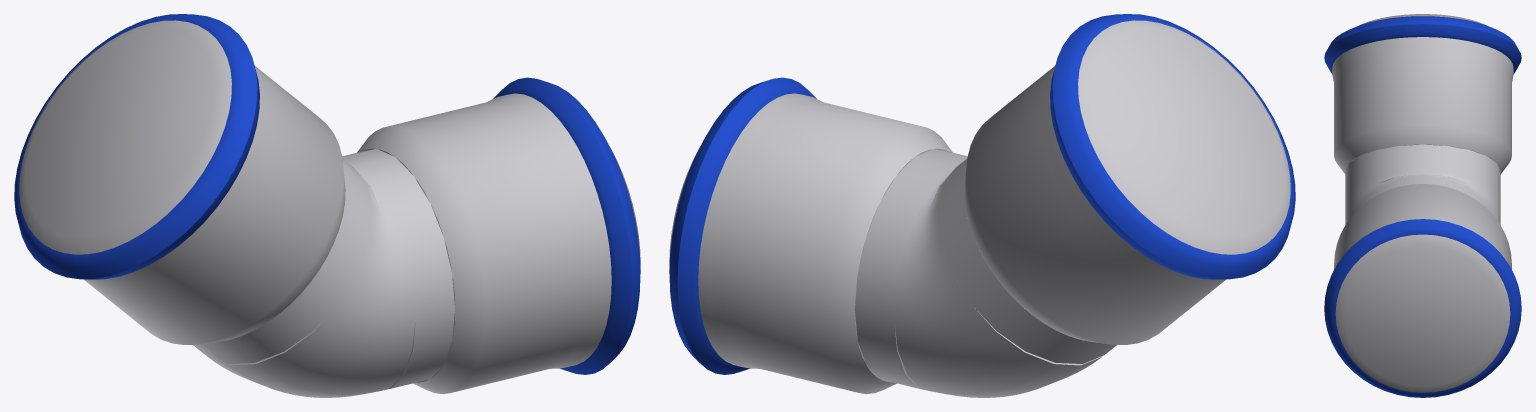
File: fitting_e45_35.glb
3 renders of one model, left to right at view 1: azimuth 30°, elevation 25°; view 2: azimuth 150°, elevation 25°; view 3: azimuth 270°, elevation 25°, orthographic. The views are drawn at different scales.
Parts seen in each view (by area): view 1: раструб.001, раструб, изгиб, кольцо пресс.001, корпус, кольцо пресс, корпус.001; view 2: раструб.001, раструб, изгиб, кольцо пресс.001, корпус, кольцо пресс, корпус.001; view 3: раструб, раструб.001, кольцо пресс, корпус.001, кольцо пресс.001, изгиб, корпус.
Boxes of the visible parts, bbox=[...] form: раструб.001: bbox=[19, 20, 345, 344]; раструб: bbox=[357, 93, 640, 394]; изгиб: bbox=[207, 163, 415, 397]; кольцо пресс.001: bbox=[14, 14, 259, 279]; корпус: bbox=[342, 149, 455, 388]; кольцо пресс: bbox=[493, 77, 640, 374]; корпус.001: bbox=[193, 159, 372, 363]; раструб.001: bbox=[964, 20, 1290, 344]; раструб: bbox=[669, 93, 952, 394]; изгиб: bbox=[894, 163, 1102, 397]; кольцо пресс.001: bbox=[1050, 14, 1295, 279]; корпус: bbox=[854, 149, 967, 388]; кольцо пресс: bbox=[669, 77, 816, 374]; корпус.001: bbox=[937, 159, 1116, 363]; раструб: bbox=[1334, 184, 1511, 392]; раструб.001: bbox=[1332, 14, 1513, 173]; кольцо пресс: bbox=[1324, 219, 1521, 397]; корпус.001: bbox=[1345, 144, 1500, 197]; кольцо пресс.001: bbox=[1324, 16, 1521, 73]; изгиб: bbox=[1345, 172, 1500, 224]; корпус: bbox=[1356, 175, 1489, 211].
Size of the model in its own units: 0.0991 by 0.0738 by 0.0483.
